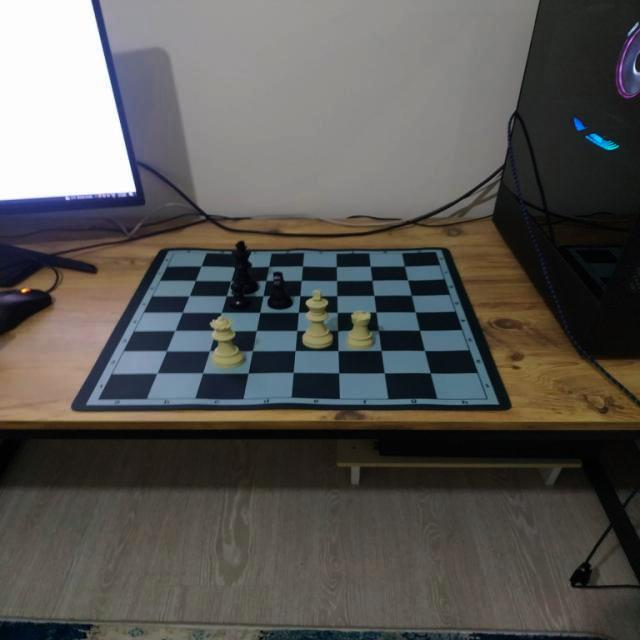chess-table-corners: (81, 390, 112, 410), (473, 389, 503, 408), (163, 248, 186, 258), (424, 248, 446, 258)
